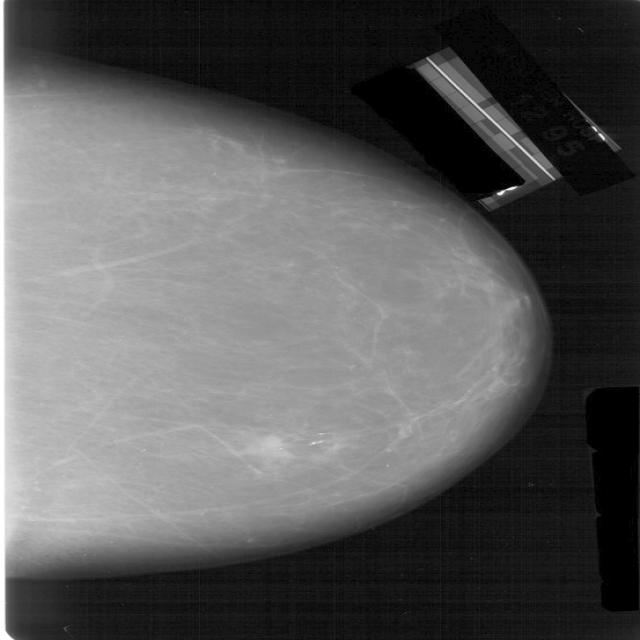tumour: (237, 434, 299, 462)
